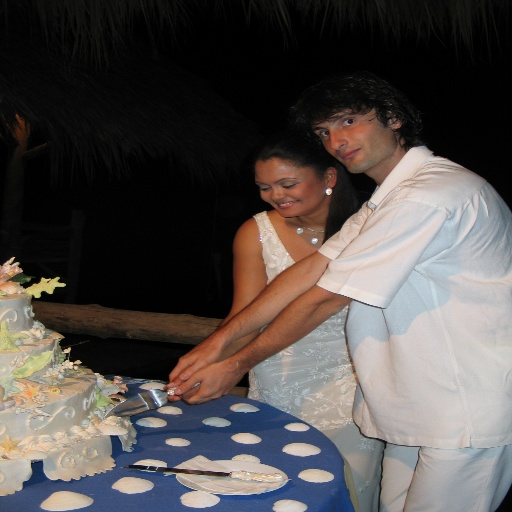hand: (165, 339, 226, 386), (172, 362, 241, 403)
